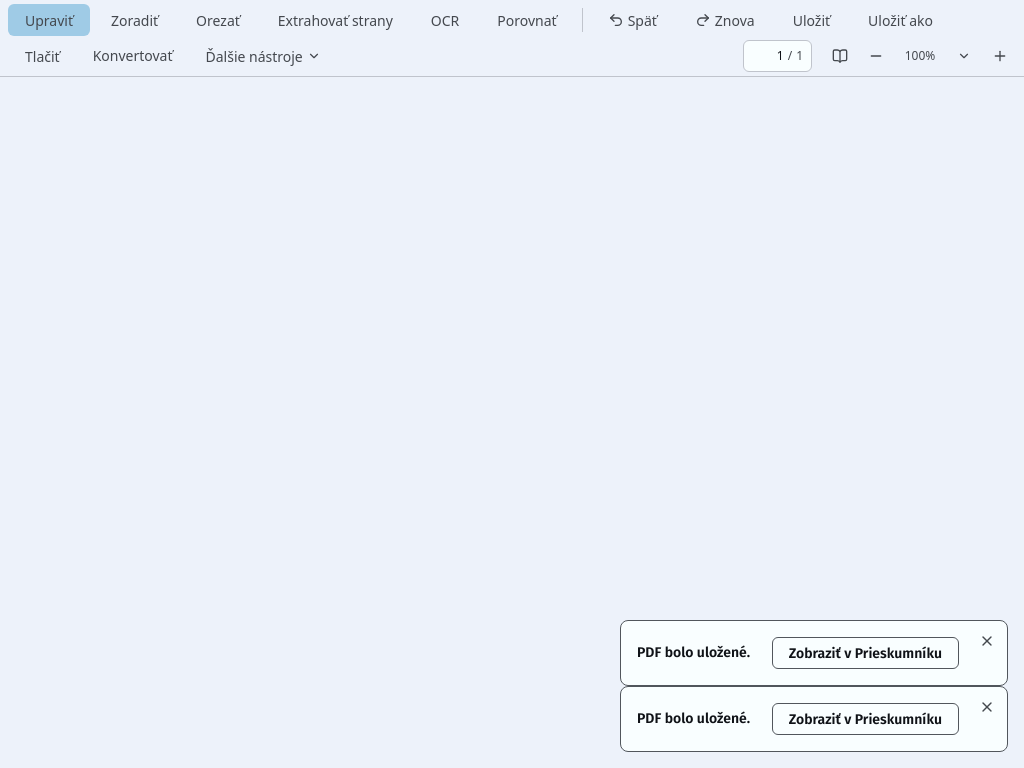
Test: WorkspaceTopBar › the zoom buttons step the displayed percentage up and down
This screenshot has width=1024, height=768.
Click the button named "Priblížiť": coordinates (1000, 56) [984,40,1016,72]
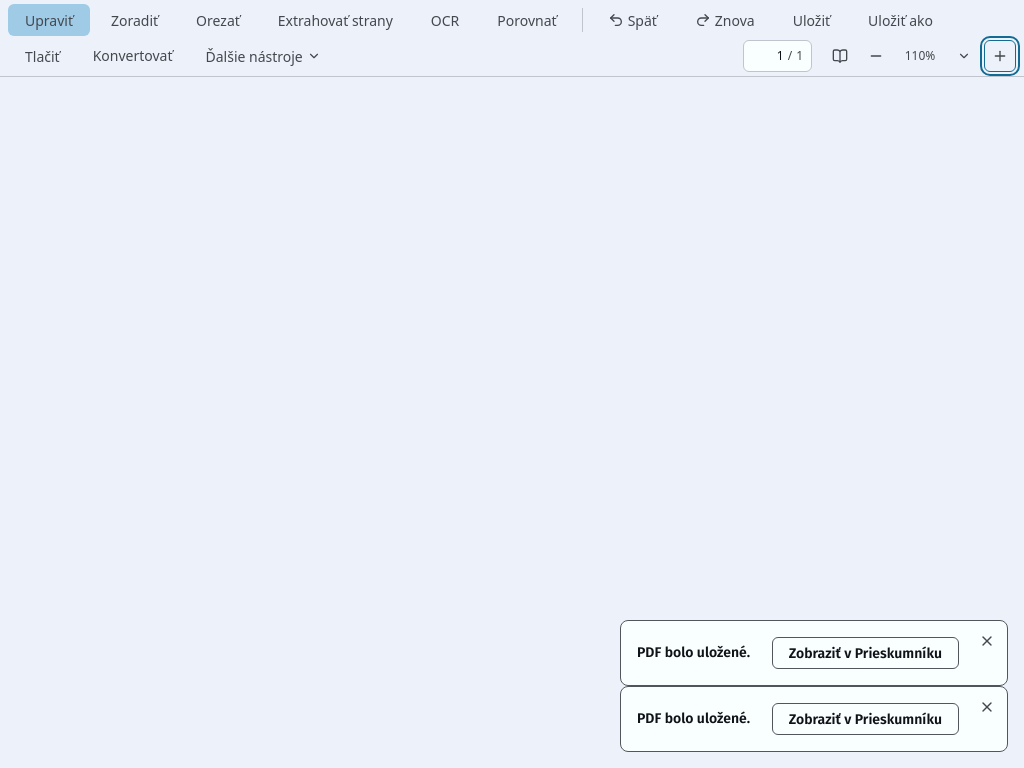
Now the button "110%" is shown, box [896,48,944,64]
Click the button named "Oddialiť": coordinates (876, 56) [860,40,892,72]
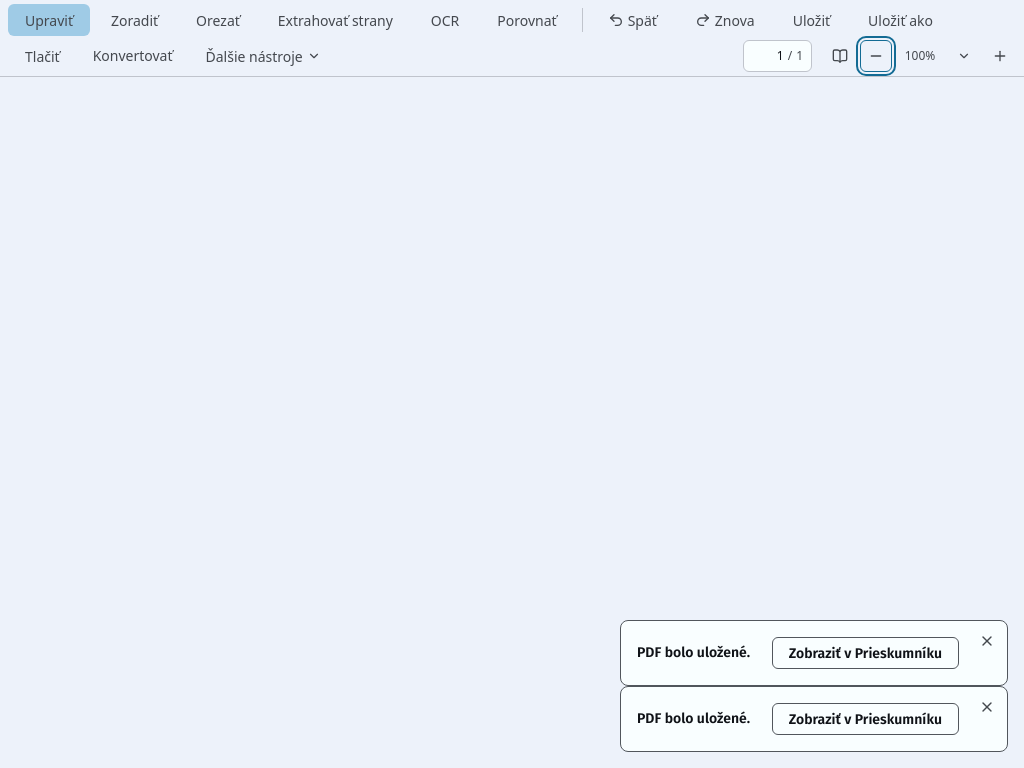
Click the button named "Oddialiť": coordinates (876, 56) [860,40,892,72]
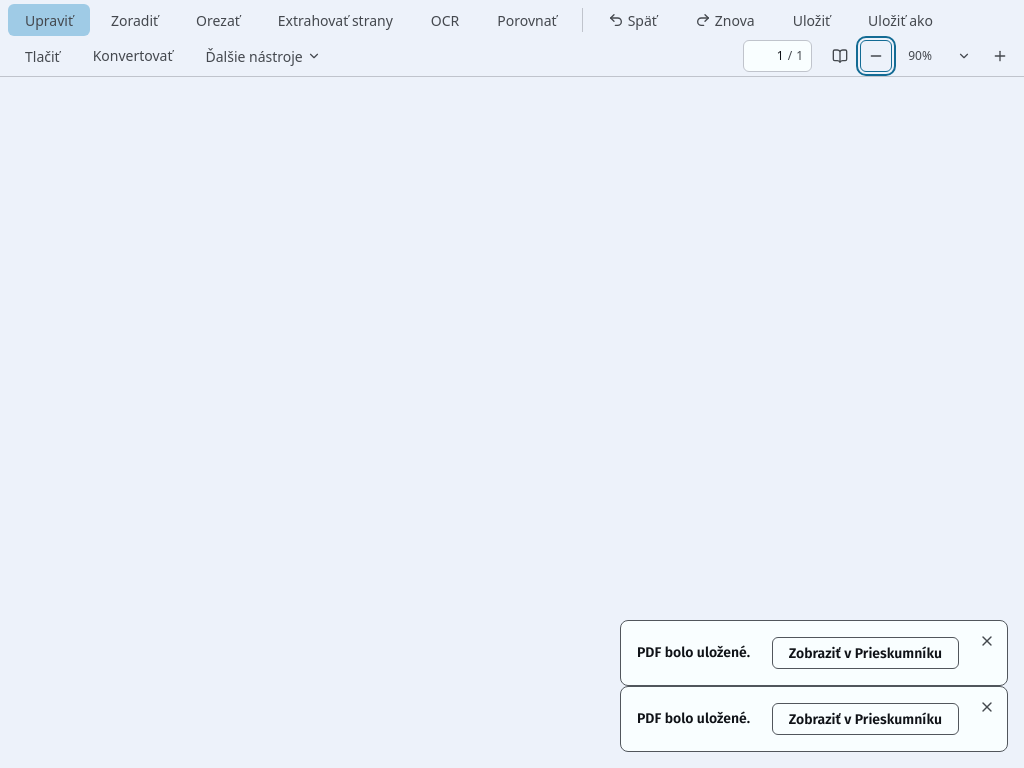
Now the button "90%" is shown, box [896,48,944,64]
